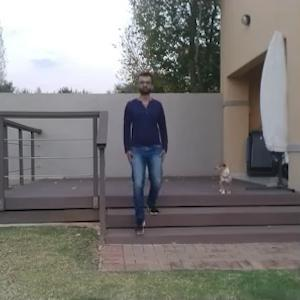follow: (123, 73, 163, 234)
